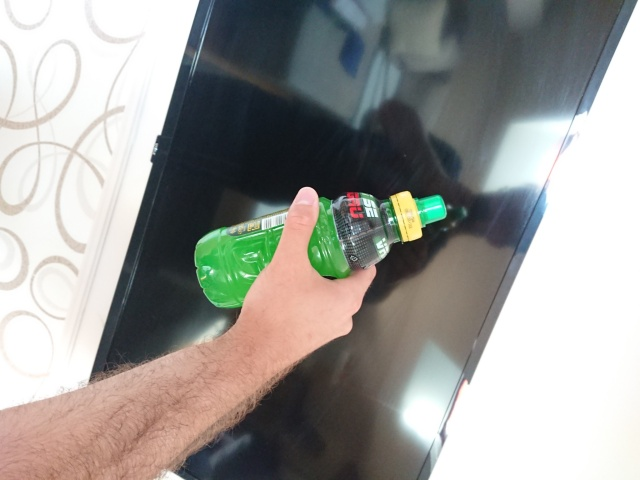Vindi Iso Sport Lemon-Grapefruit 500mL: (191, 189, 450, 312)
